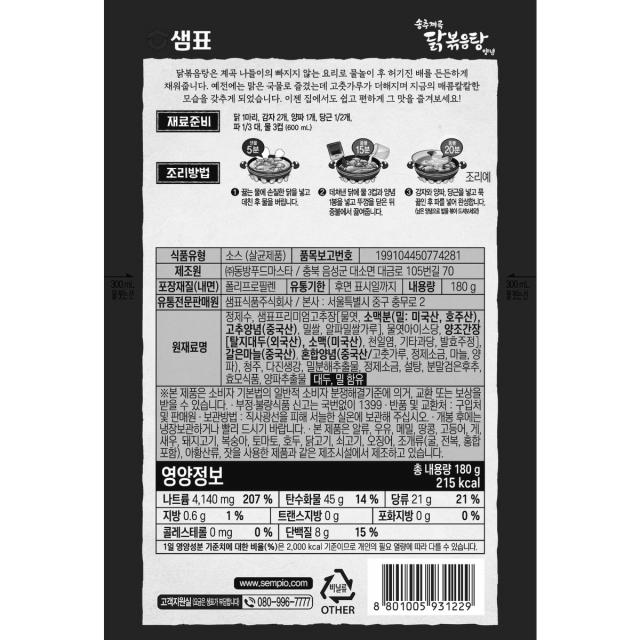Nutrition Label: (147, 462, 488, 564)
